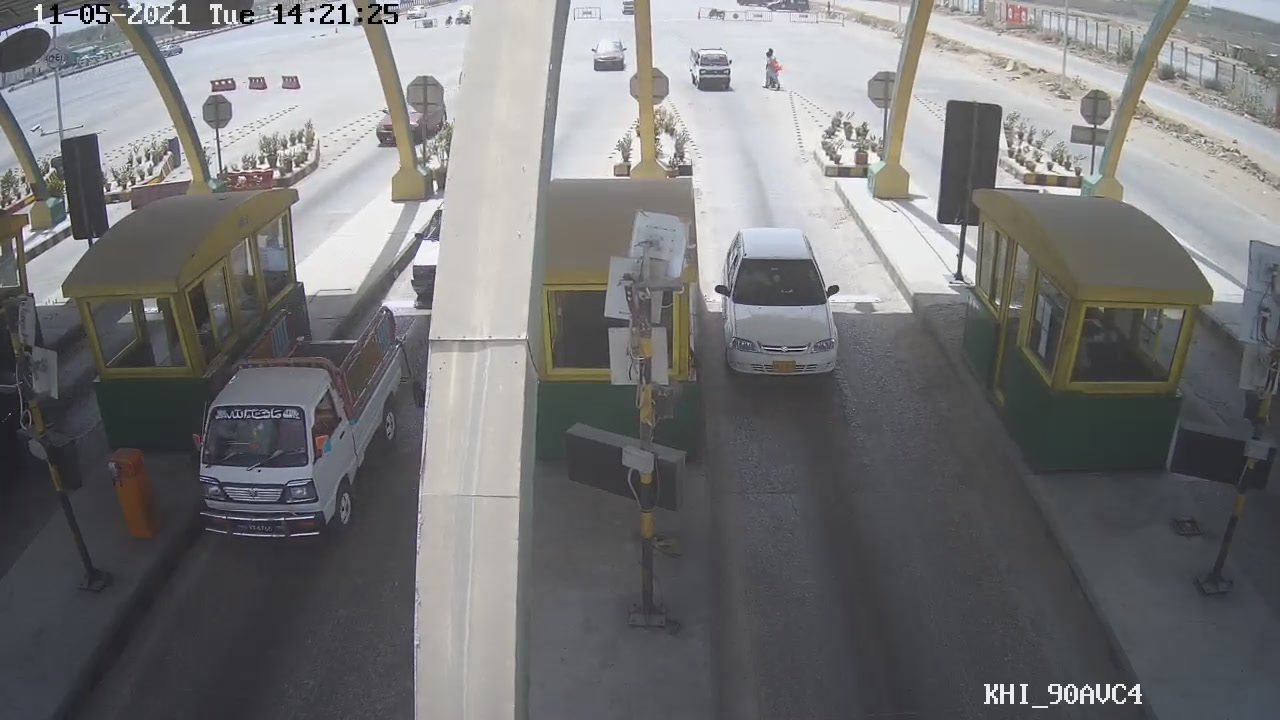F1: (715, 224, 847, 380)
